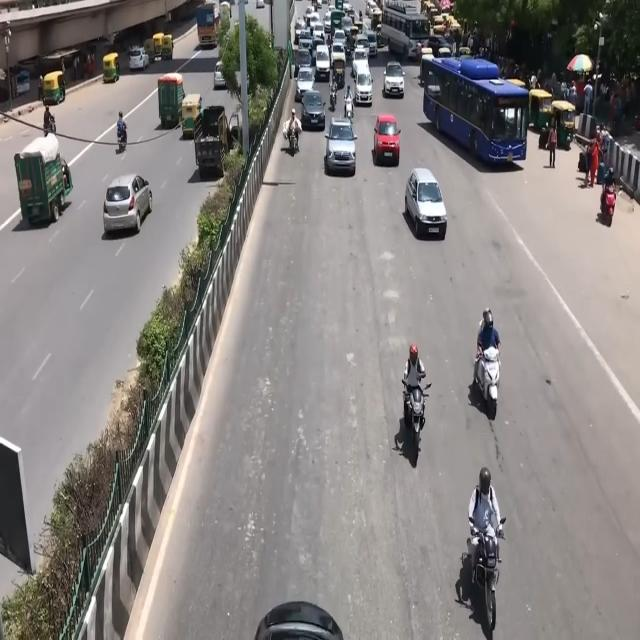auto: (13, 135, 71, 226), (550, 100, 576, 151), (528, 88, 553, 133), (43, 70, 66, 106), (102, 52, 120, 84), (161, 34, 174, 60)
bike-auto: (465, 518, 505, 633), (468, 470, 502, 578), (473, 308, 499, 422), (402, 376, 431, 456), (403, 344, 427, 423), (602, 164, 620, 253), (288, 106, 305, 174), (116, 110, 127, 150), (344, 86, 354, 119), (330, 75, 338, 107), (44, 105, 52, 135), (327, 31, 332, 48)
